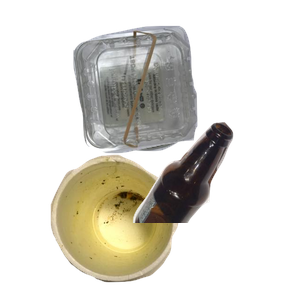glass: (130, 120, 300, 300)
metal: (89, 48, 276, 192)
plastic: (71, 23, 300, 169)
trash: (48, 152, 219, 300)
